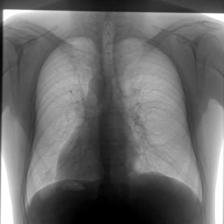tuberculosis: (20, 31, 208, 223)
